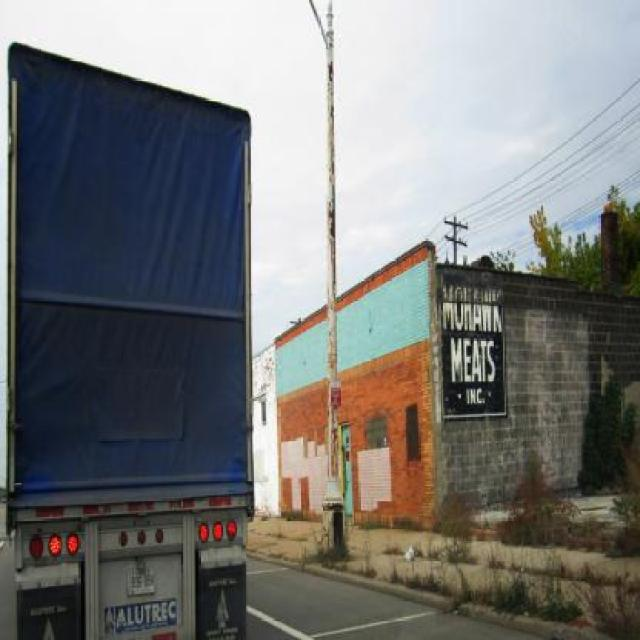Truck: (0, 51, 265, 632)
